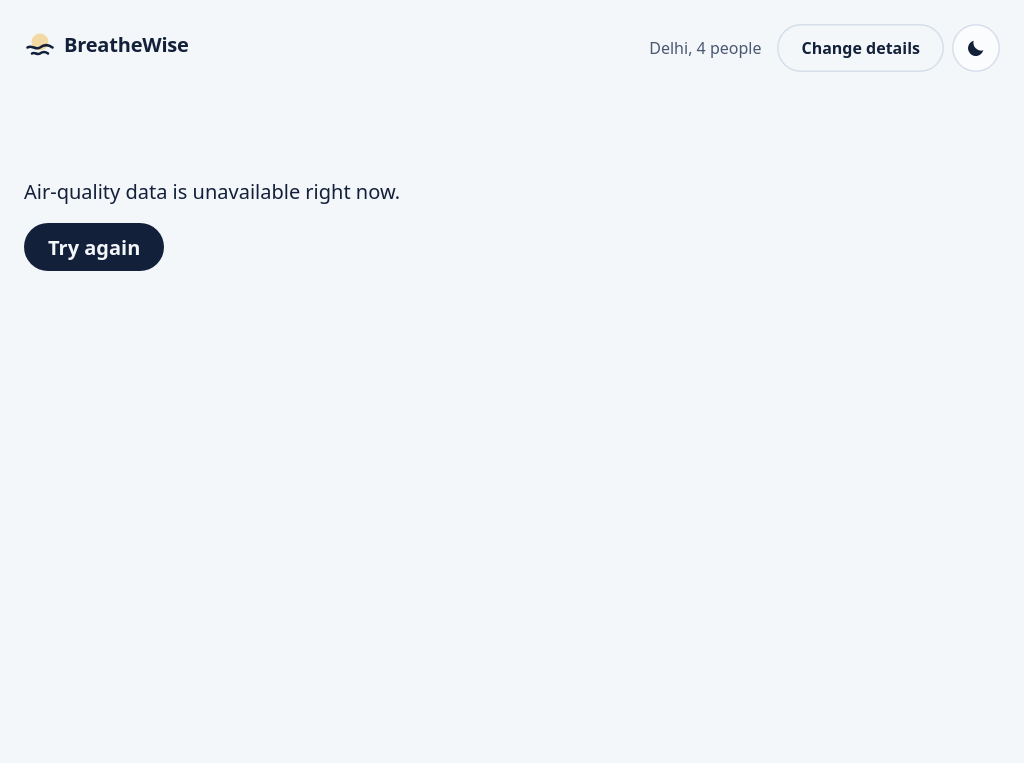
Dashboard with a saved family › retries after the forecast fails to load
Expected: the message shows "Air-quality data is unavailable right now.", [24,178,400,205]
Click the button "Try again". click: [94, 247]
box: [24,223,164,271]
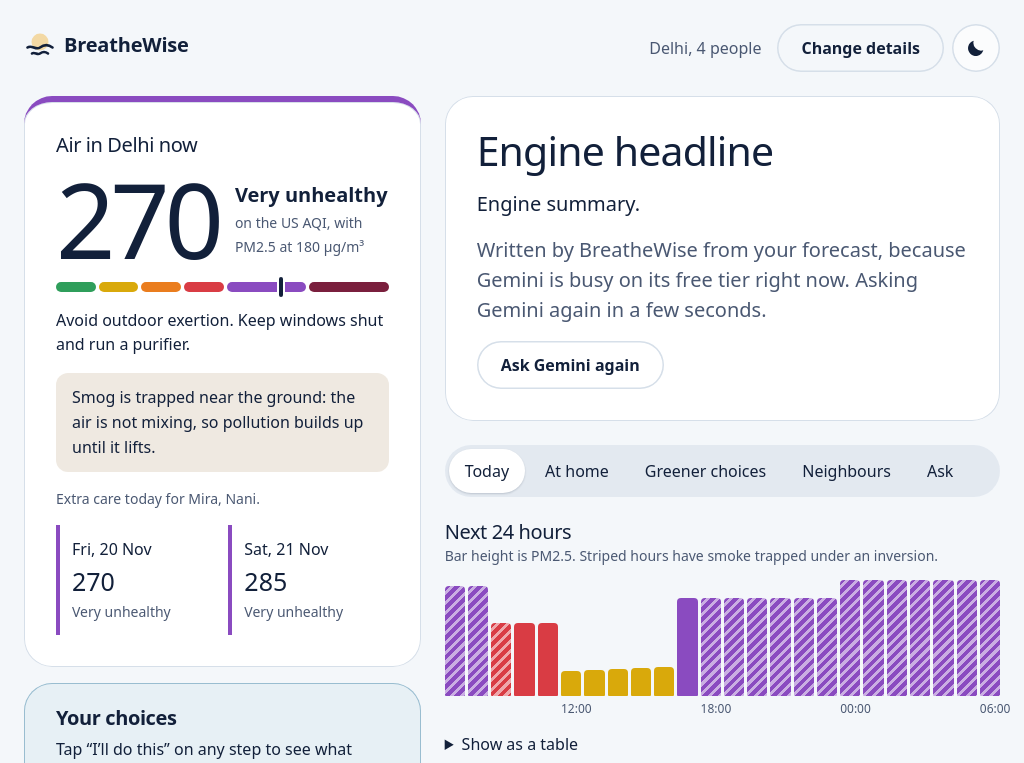
Expected: the heading "Air in Delhi now" is shown, [56,131,197,158]
